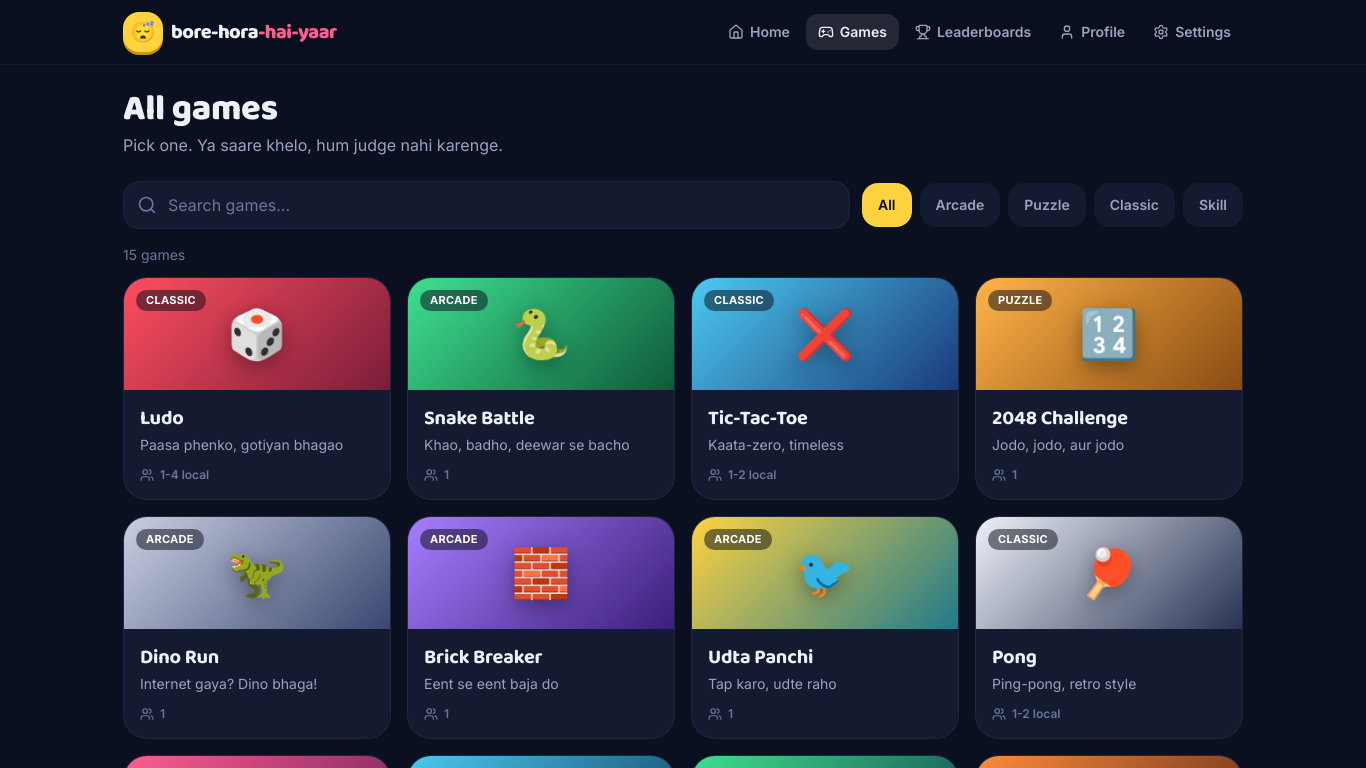
Test: navigation › search and category filters narrow the grid
This screenshot has width=1366, height=768.
Type "tetris" into the search field named "Search games by name" at (486,205), box top-left (123, 181), bottom-right (850, 229)
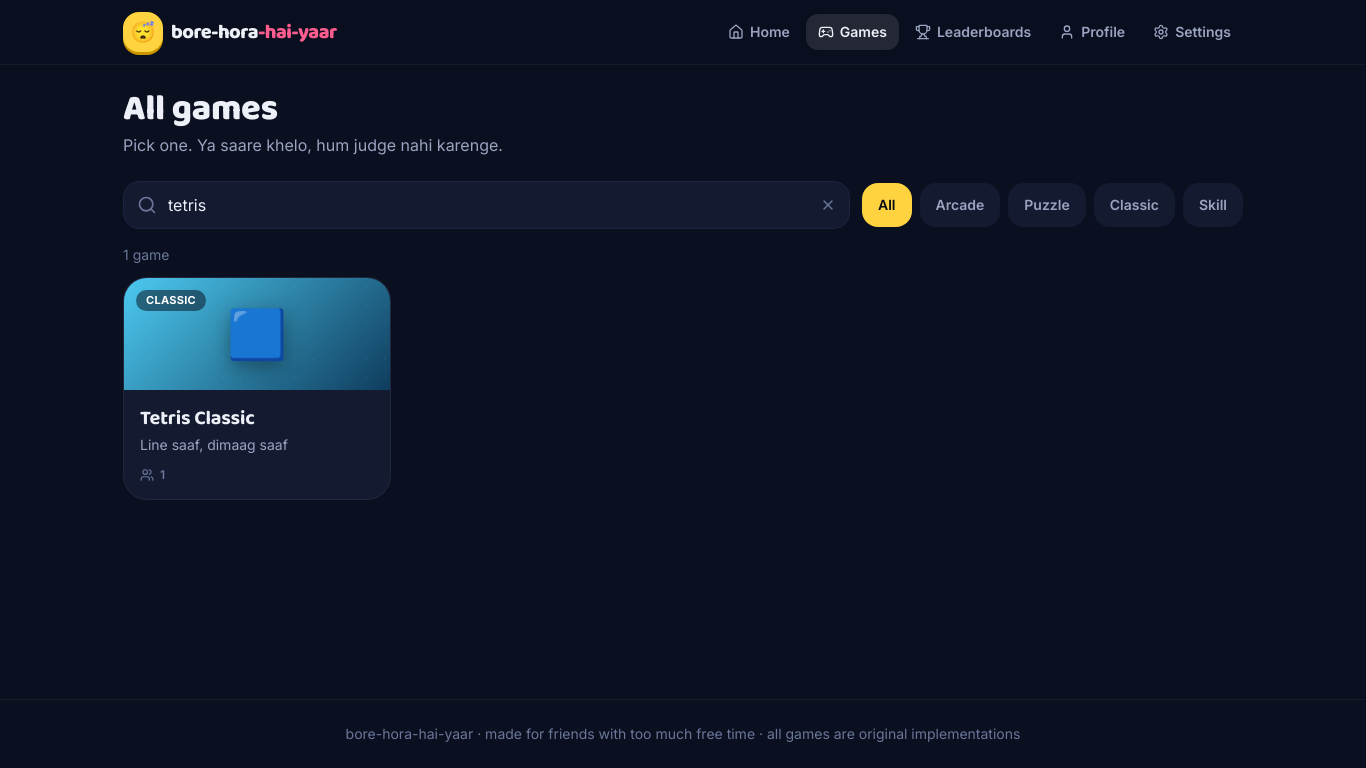
Clear the search field named "Search games by name" at (486,205), box top-left (123, 181), bottom-right (850, 229)
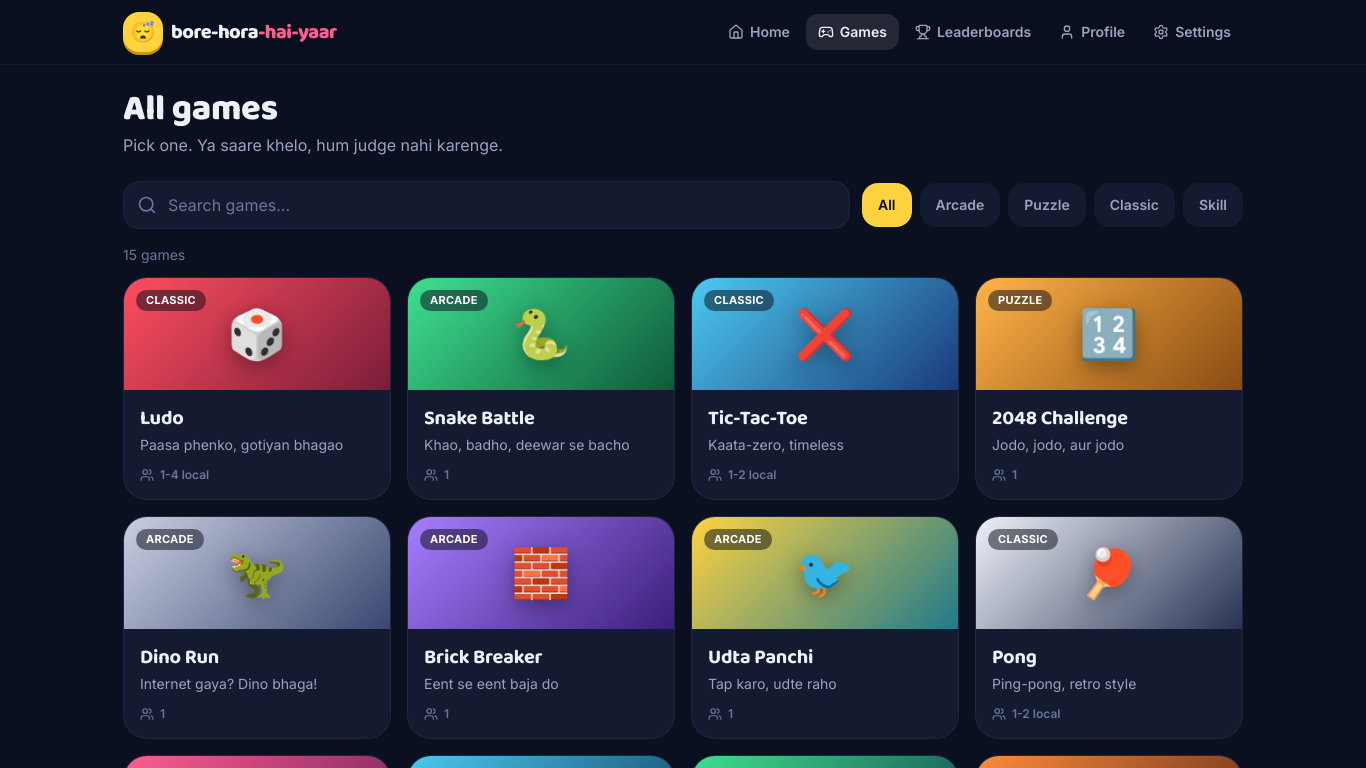
Click the button "Puzzle" at (1047,205), box top-left (1008, 183), bottom-right (1086, 227)
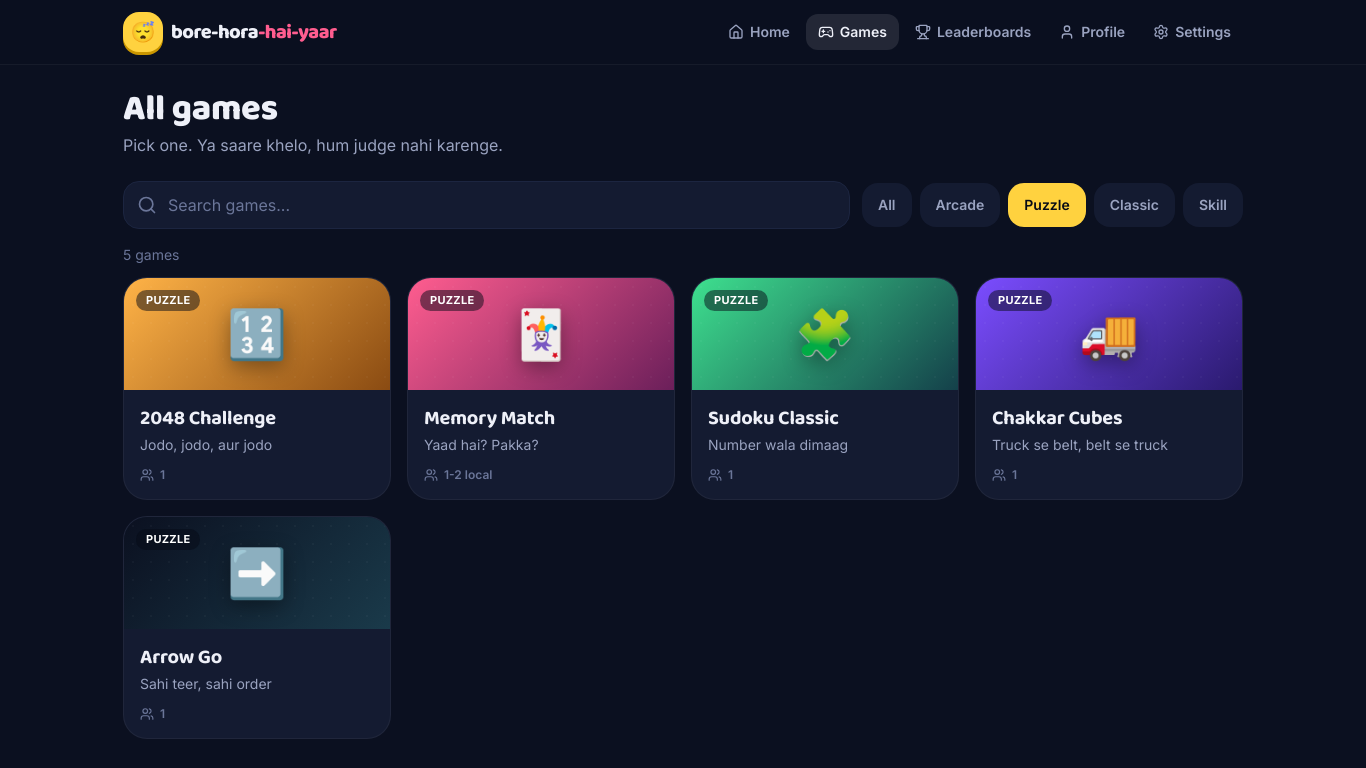
Type "zzzz" into the search field named "Search games by name" at (486,205), box top-left (123, 181), bottom-right (850, 229)
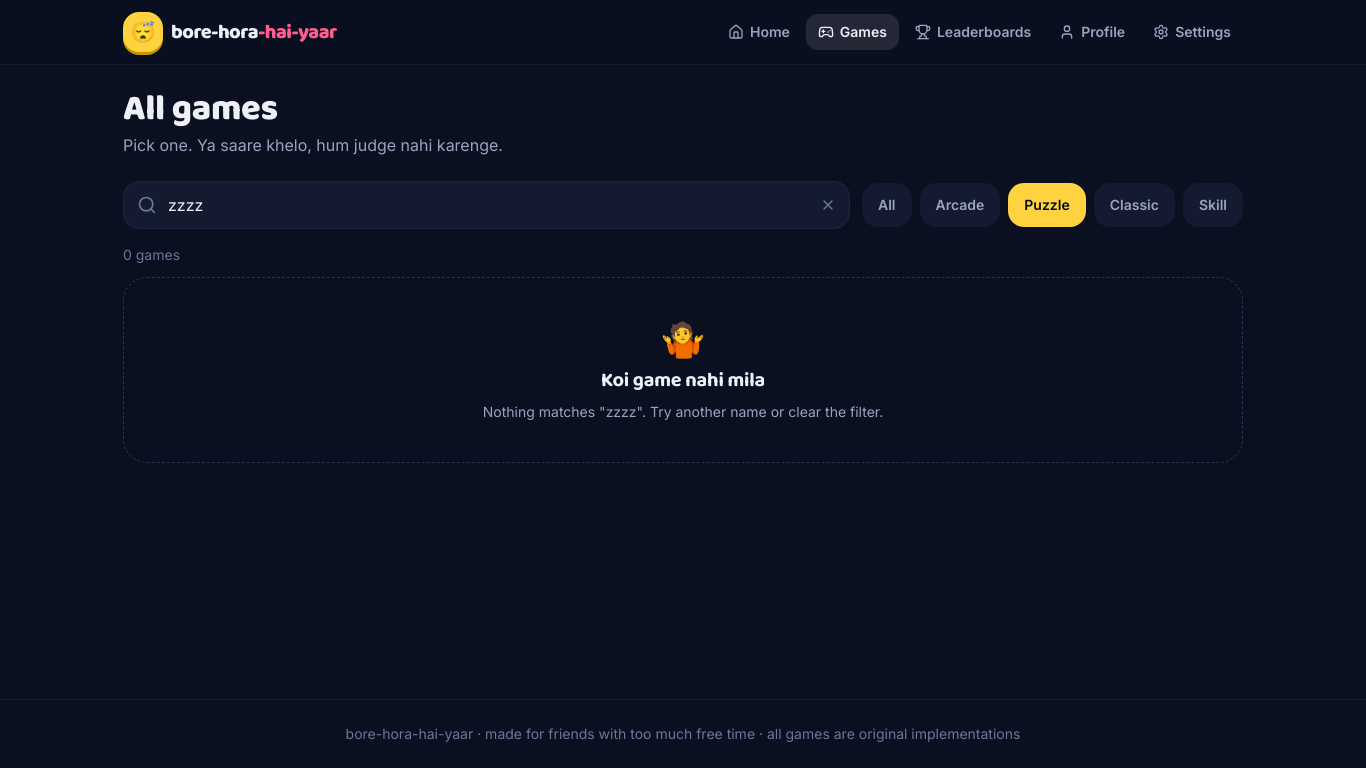
Now the text "Koi game nahi mila" is shown, box top-left (601, 366), bottom-right (765, 394)
